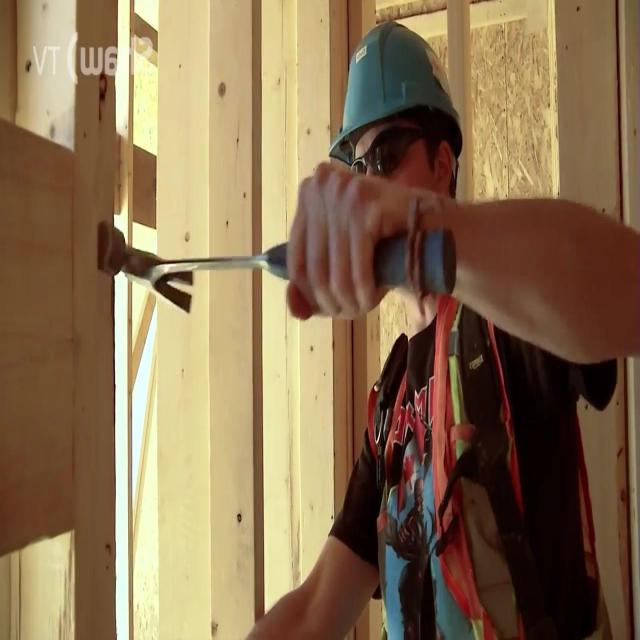Safety-Helmet: (320, 15, 476, 174)
